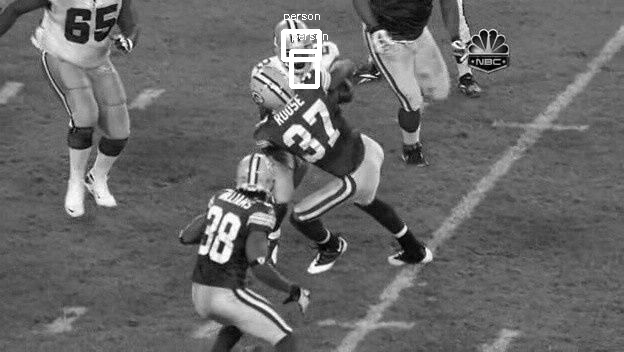person: (277, 23, 315, 71), (276, 23, 314, 71), (278, 23, 316, 71), (277, 22, 315, 70), (277, 24, 315, 72)
target_negative: (11, 149, 482, 285), (15, 118, 529, 216), (319, 92, 441, 280), (429, 174, 498, 330), (127, 78, 161, 309), (558, 272, 622, 288)
